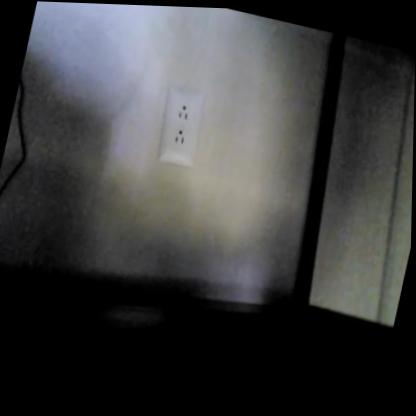OUTLET: (153, 83, 206, 168)
